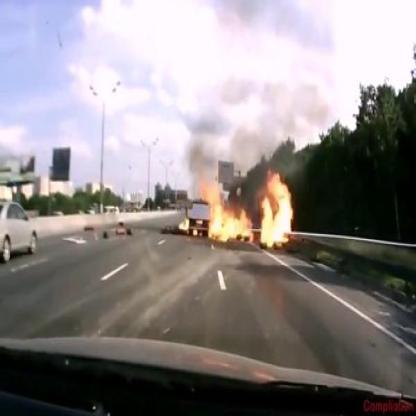fire: (201, 167, 295, 253), (177, 210, 190, 234)
